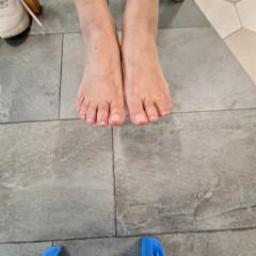Dorsal View -Both Feet-: (61, 2, 194, 149)
